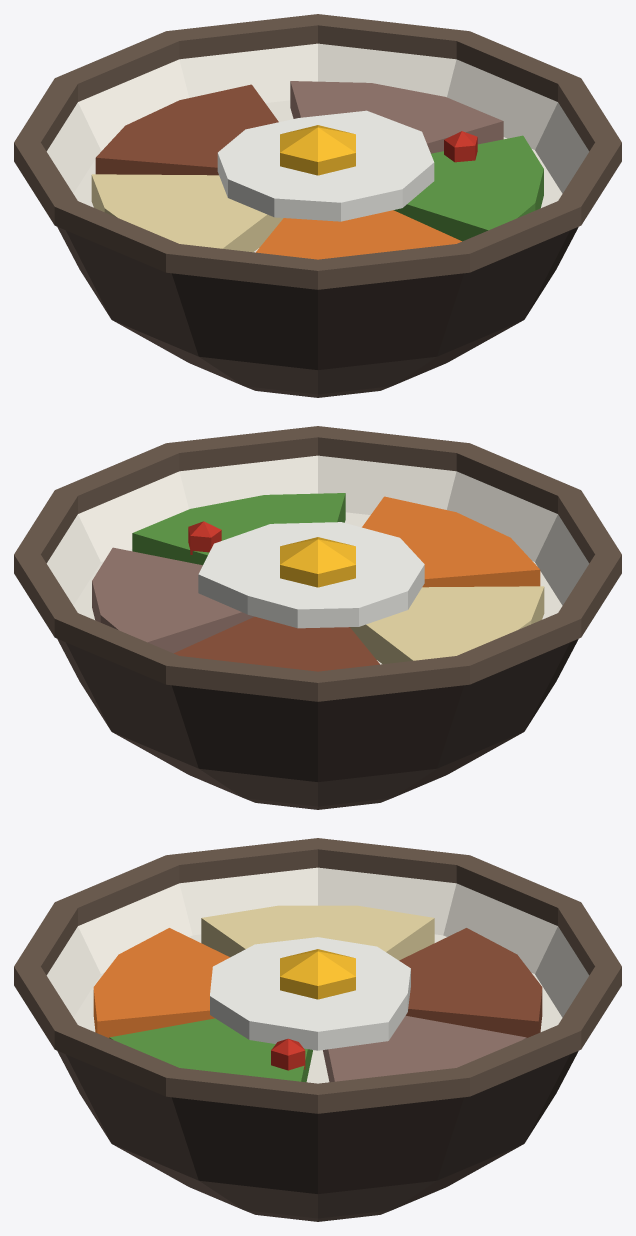
Rendered from Food_Bibimbap.obj.
3 renders of one model, top to bottom at view 1: azimuth 30°, elevation 25°; view 2: azimuth 150°, elevation 25°; view 3: azimuth 270°, elevation 25°, orthographic.
Size of the model in its own units: 2.04 by 0.806 by 2.04.
